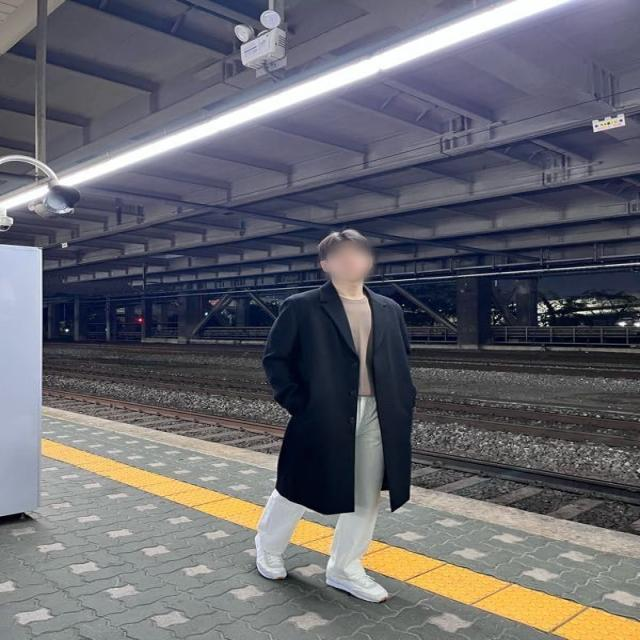coat: (266, 279, 418, 517)
cottonpants: (254, 393, 378, 581)
